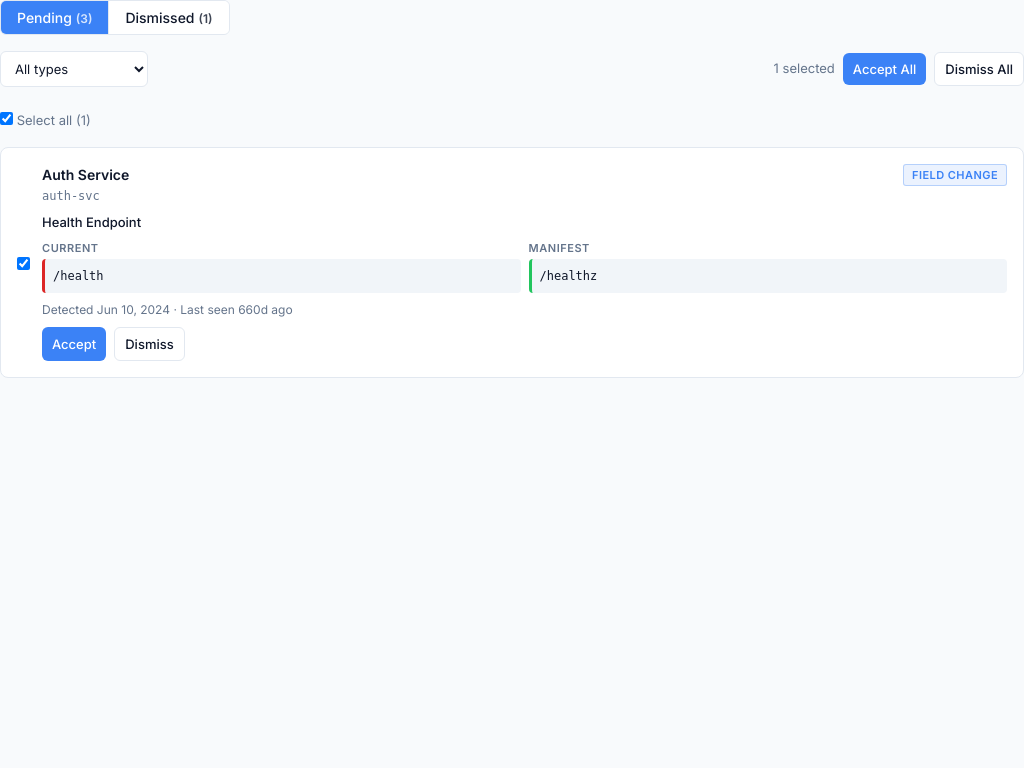
Test: DriftReview › shows bulk accept confirmation dialog
Click the button "Accept All".
click(885, 69)  # box x1=843 y1=53 x2=926 y2=85
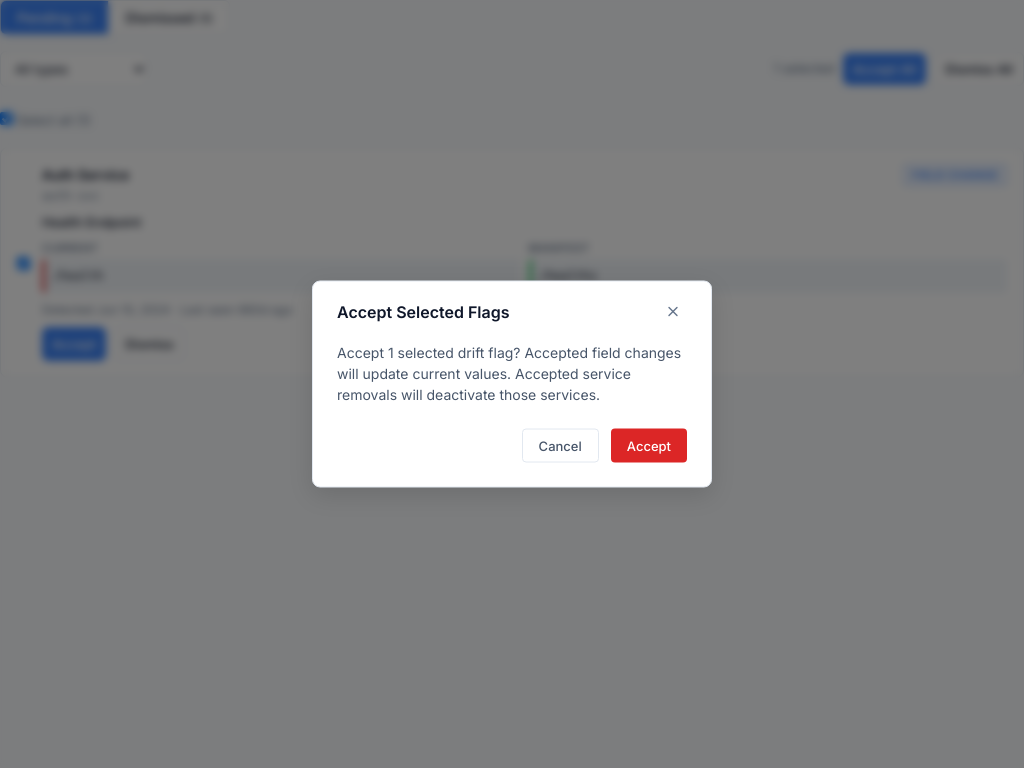
Result: the heading "Accept Selected Flags" is shown at x1=337 y1=302 x2=510 y2=322
Result: the text "Accept 1 selected drift flag?" is shown at x1=337 y1=344 x2=681 y2=402
